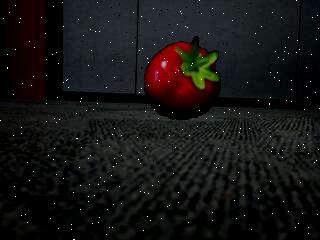Tomato: (144, 35, 222, 120)
